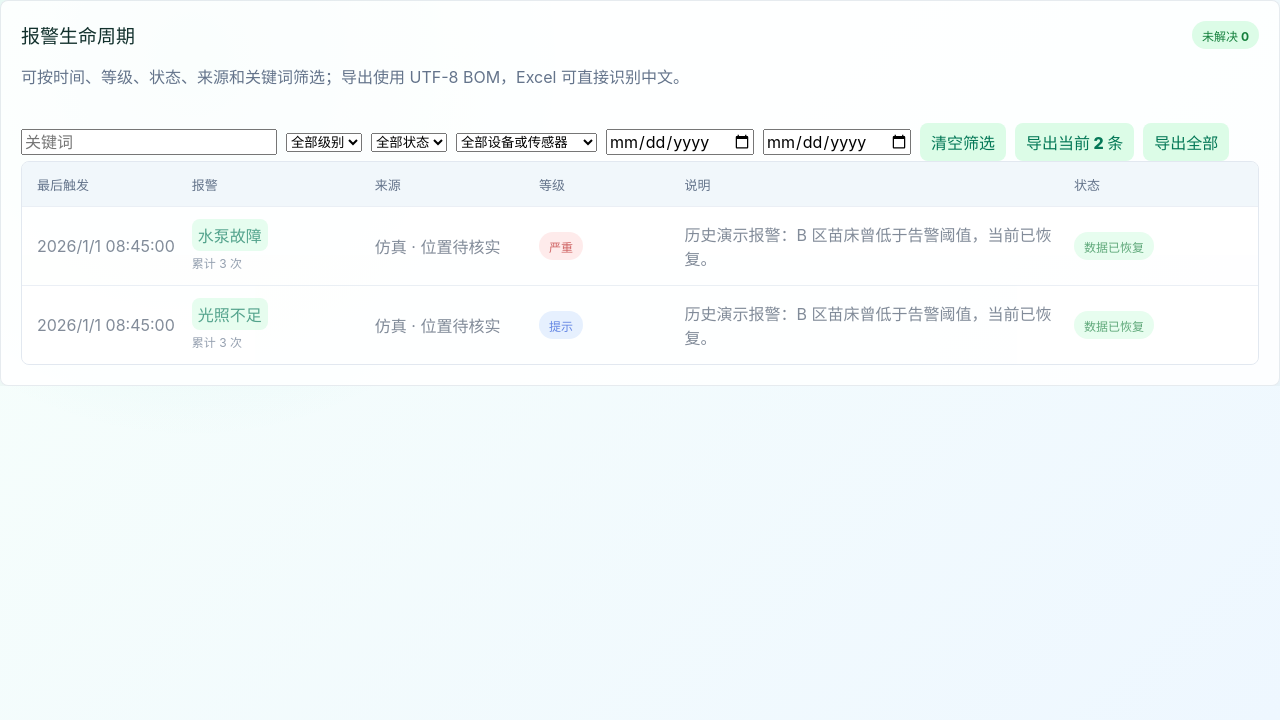
it: 报警中心筛选 › 按等级筛选并可清空
The width and height of the screenshot is (1280, 720).
Select "严重" in the dropdown named "报警级别" at (324, 142), box [286, 133, 362, 152]
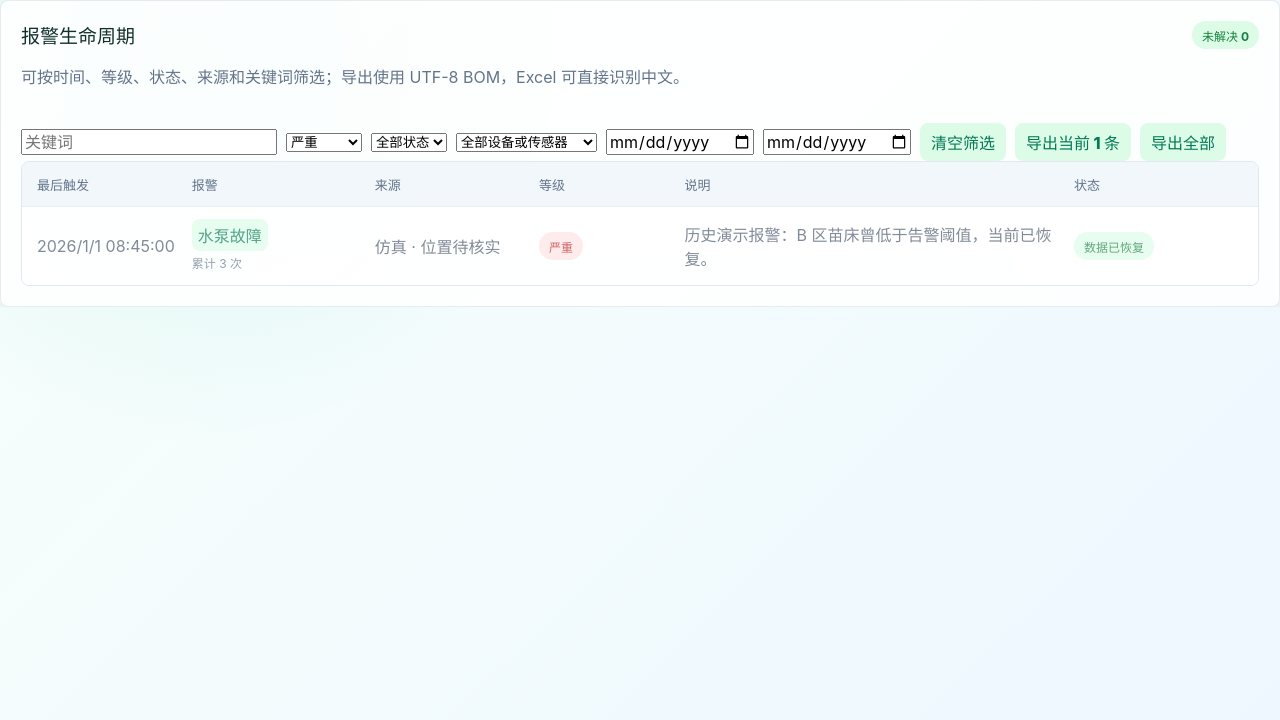
Check: the button "水泵故障" is shown, box [192, 219, 268, 251]
Check: the button "光照不足" is gone
Click the button "清空筛选".
click(963, 142)  # box [920, 123, 1006, 161]
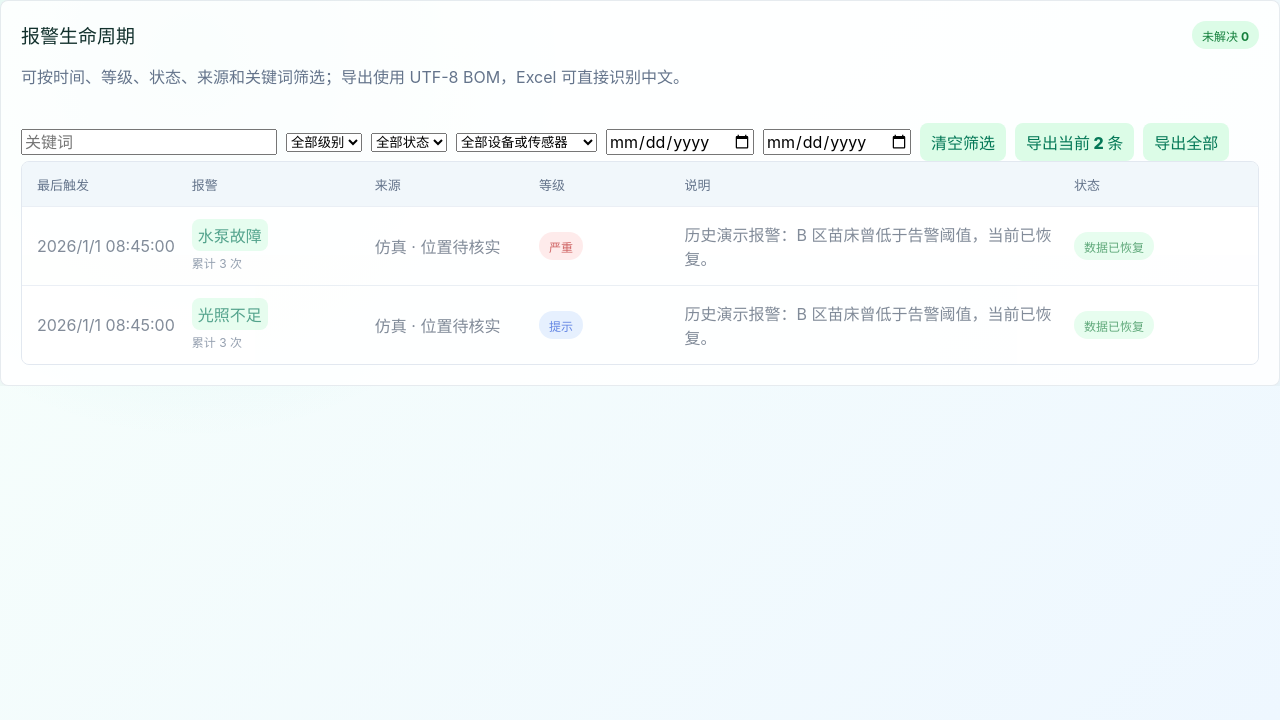
Check: the button "光照不足" is shown, box [192, 298, 268, 330]
